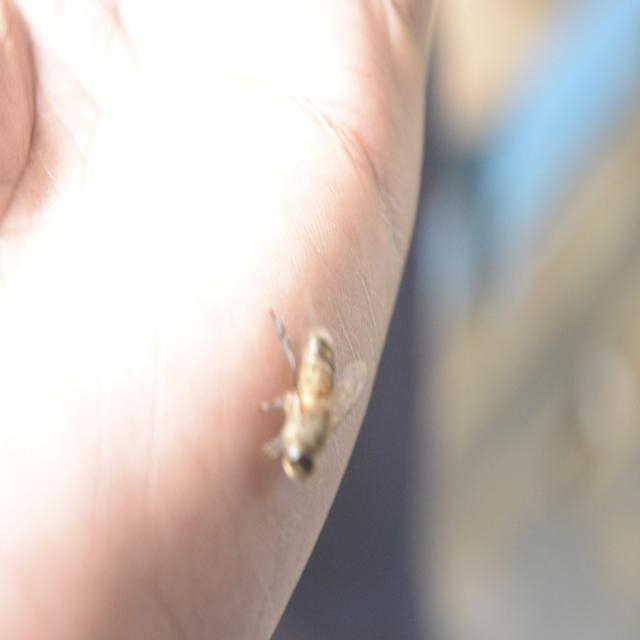honeybee: (259, 321, 354, 494)
